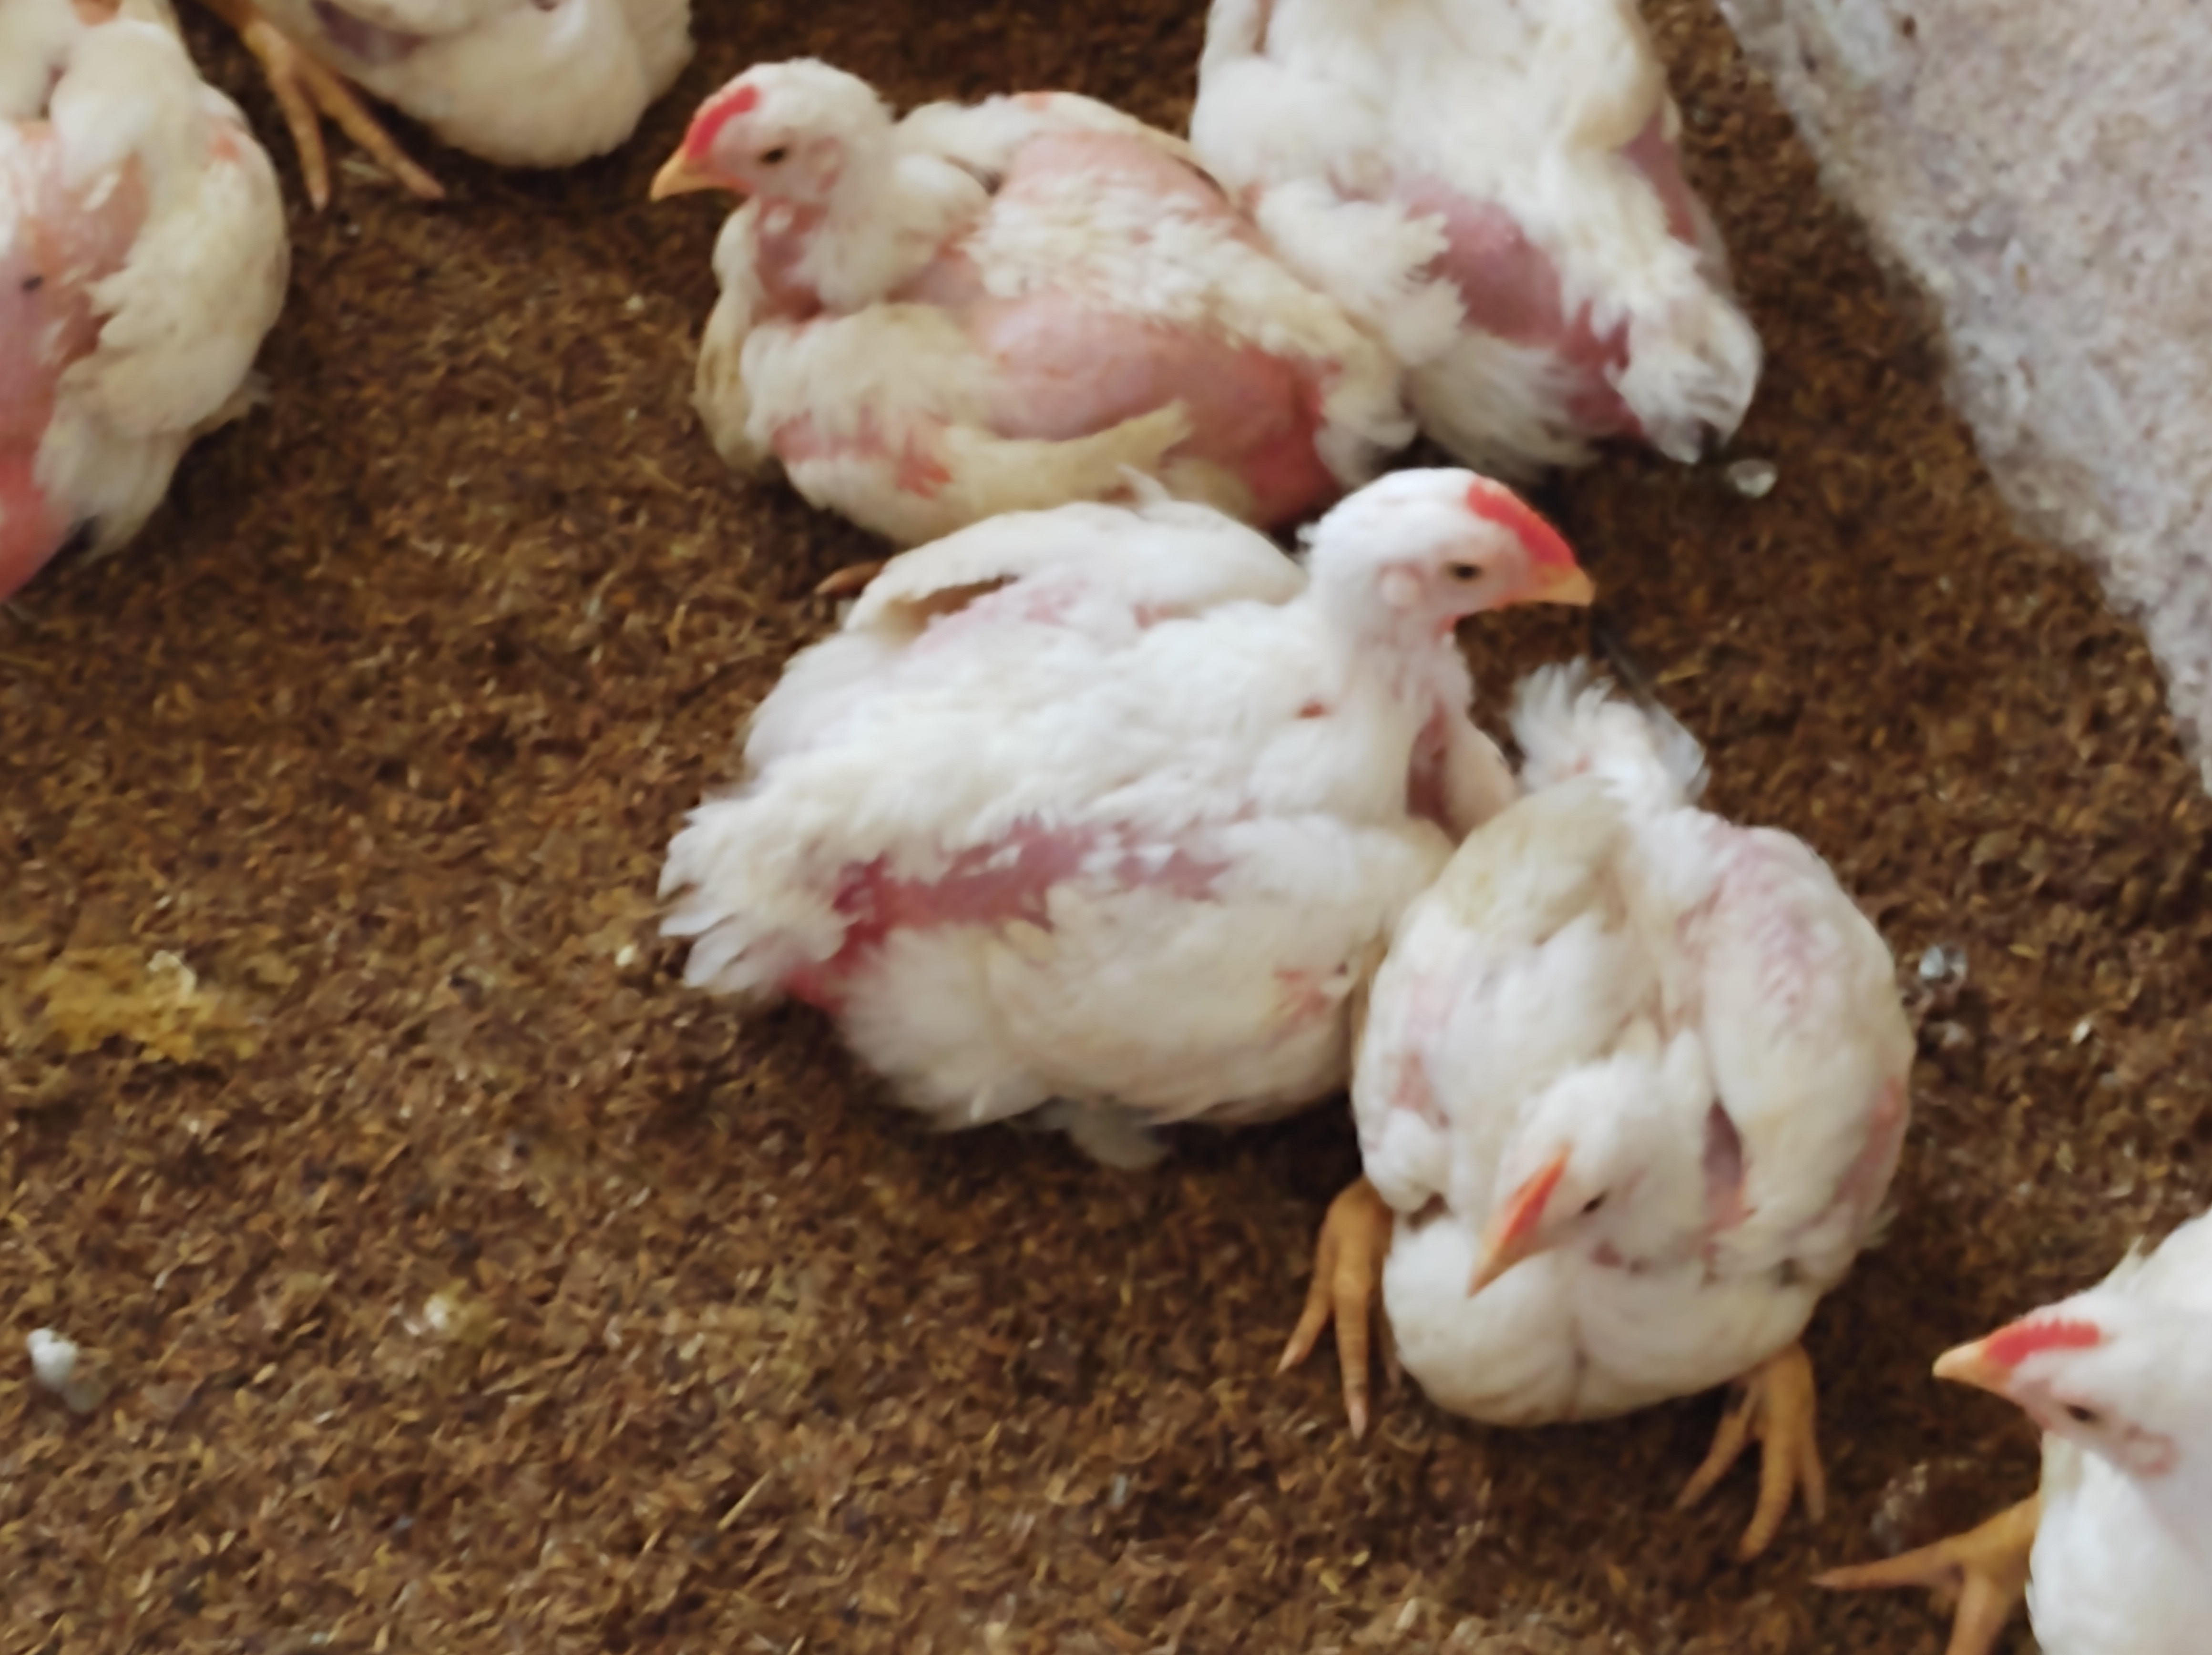Pollos: (715, 447, 1626, 1187), (1287, 718, 1937, 1521), (1189, 0, 1828, 523), (663, 47, 1343, 501), (0, 0, 308, 610), (1864, 1187, 2212, 1655), (231, 0, 718, 240)
